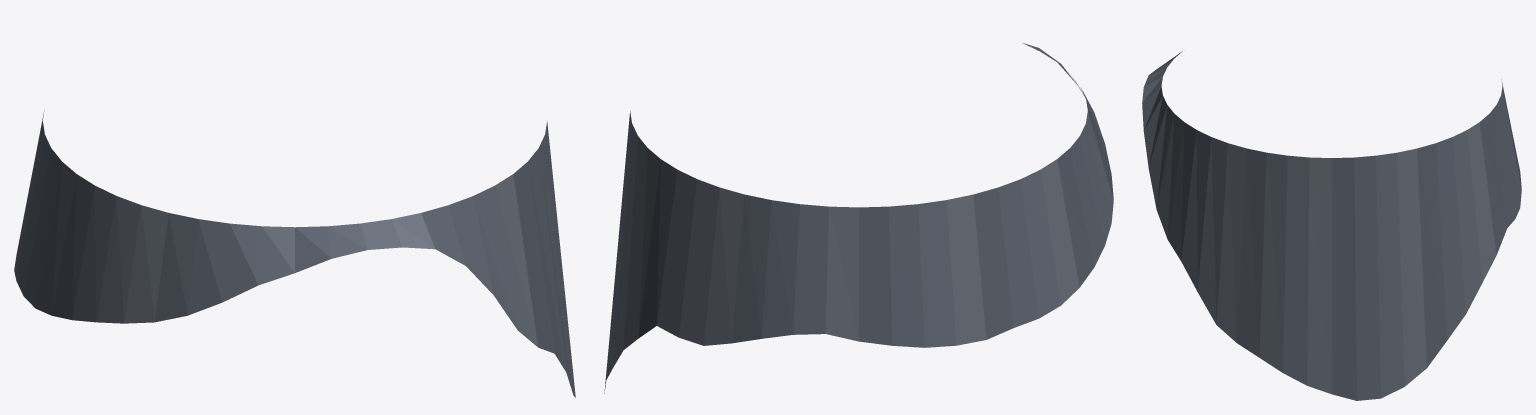
The model's file is lighthouse_footing.glb.
3 renders of one model, left to right at view 1: azimuth 30°, elevation 25°; view 2: azimuth 150°, elevation 25°; view 3: azimuth 270°, elevation 25°, orthographic. The views are drawn at different scales.
Parts seen in each view (by area): view 1: lighthouse_footing; view 2: lighthouse_footing; view 3: lighthouse_footing.
Part boxes in pixels (<box>): lighthouse_footing: <box>14,111,575,397</box>; lighthouse_footing: <box>604,43,1113,393</box>; lighthouse_footing: <box>1142,51,1521,400</box>.
Bounding box in the file's own units: 10.2 × 6.98 × 10.2.
Materials: 1 (1 with a texture image).
